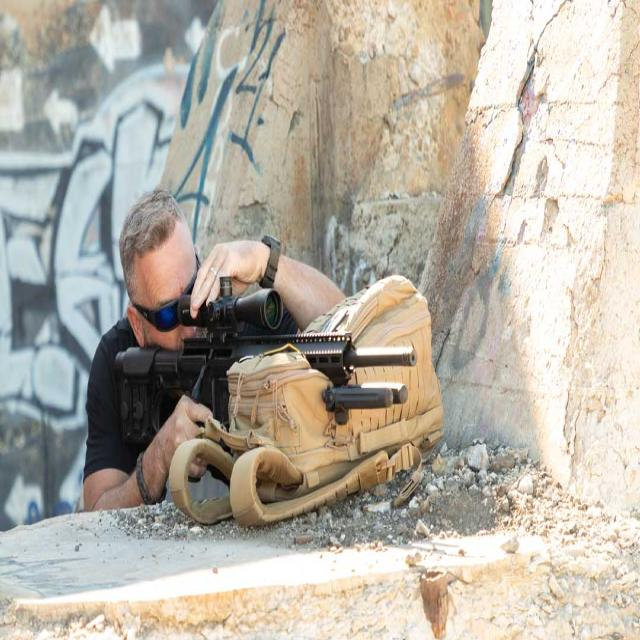Rifle: (117, 276, 418, 446)
